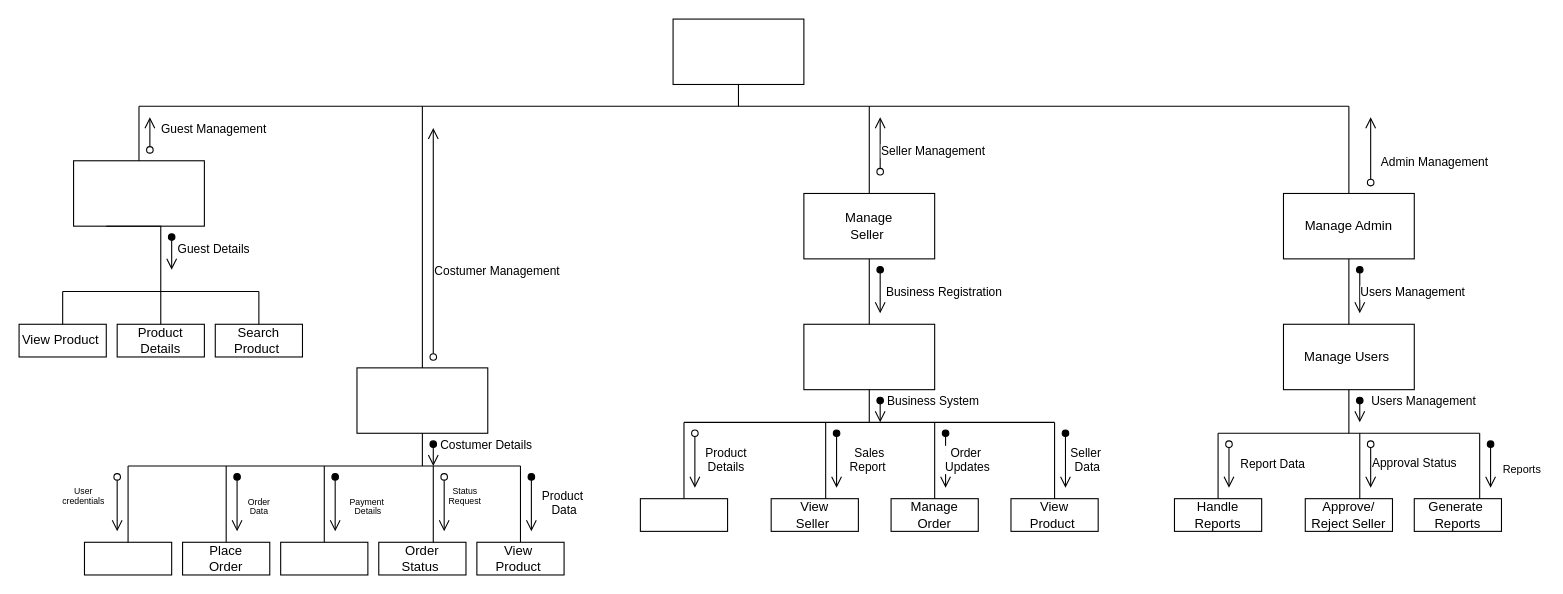
The diagram is 1563 pixels wide and 594 high, and some of its shapes have lost their labels. The shapes that lost their labels are listed below. From the top down, each one's centre as x and y in pixels, then its label:
the point at 738,51: AGOOBIZ CONNECT
the point at 138,193: Manager Guest
the point at 869,356: Register Business
the point at 422,400: Manager Costumer
the point at 683,514: Upload Product
the point at 127,558: Register/ Login
the point at 324,558: Make Payment
